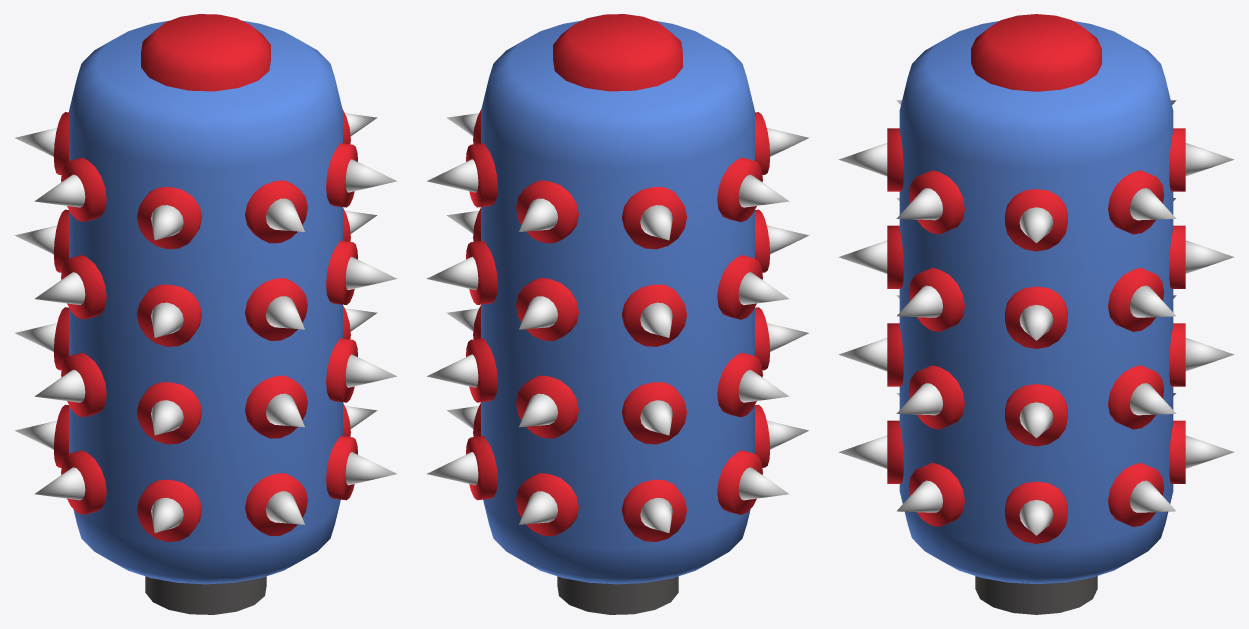
Rendered from Obstacle 19 V1.fbx.
3 renders of one model, left to right at view 1: azimuth 30°, elevation 25°; view 2: azimuth 150°, elevation 25°; view 3: azimuth 270°, elevation 25°, orthographic.
Parts seen in each view (by area): view 1: O19 Part 1, O19 Part 2; view 2: O19 Part 1, O19 Part 2; view 3: O19 Part 1, O19 Part 2.
Boxes of the visible parts, x1,y1,x2,y2 form: O19 Part 1: [14, 14, 397, 584]; O19 Part 2: [145, 576, 266, 614]; O19 Part 1: [426, 14, 809, 584]; O19 Part 2: [557, 576, 678, 614]; O19 Part 1: [838, 14, 1234, 584]; O19 Part 2: [975, 576, 1097, 614].
Size of the model in its own units: 79.81 by 123 by 79.81.
1 material, 1 textured.
